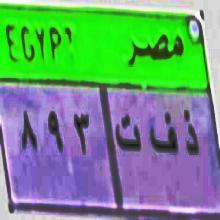3: (73, 109, 92, 164)
8: (19, 103, 38, 160)
9: (46, 103, 64, 166)
faa: (148, 108, 177, 168)
taa: (114, 110, 142, 160)
zaal: (182, 104, 200, 168)
